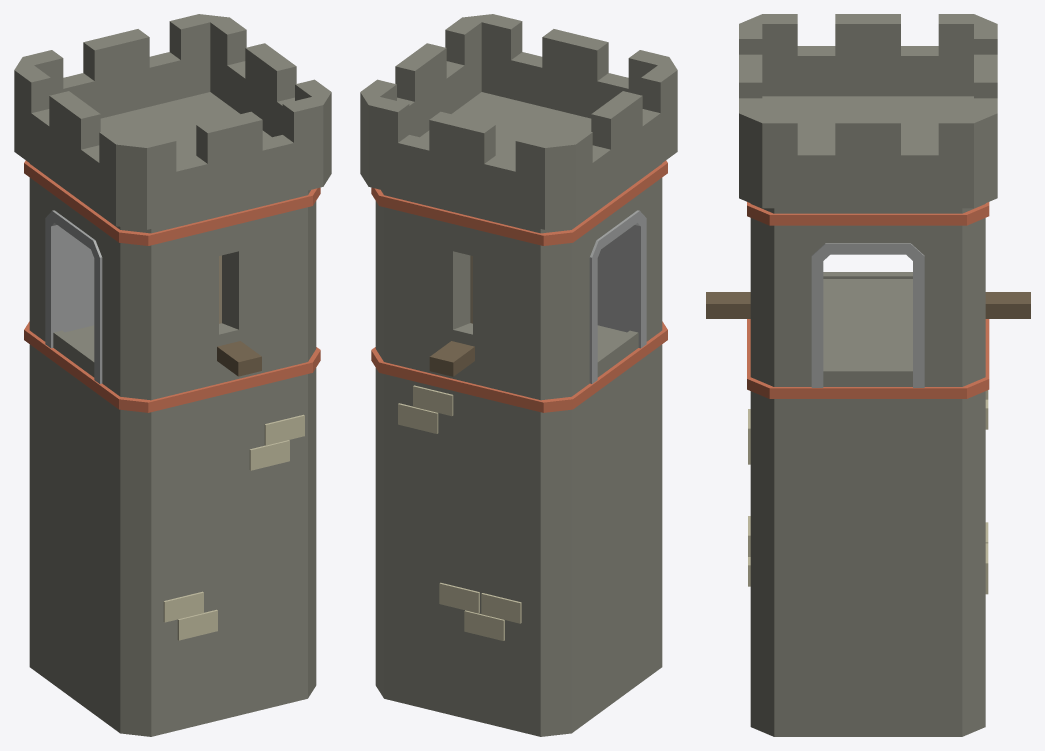
File: Tower_4.fbx
3 renders of one model, left to right at view 1: azimuth 30°, elevation 25°; view 2: azimuth 150°, elevation 25°; view 3: azimuth 270°, elevation 25°, orthographic. The views are drawn at different scales.
Visible parts, largest first — view 1: Tower_4; view 2: Tower_4; view 3: Tower_4.
Part boxes in pixels (x1,y1,x2,y2): Tower_4: [14, 14, 331, 736]; Tower_4: [360, 14, 677, 736]; Tower_4: [706, 14, 1030, 736].
Size of the model in its own units: 88 by 232 by 110.
Materials: 1 (1 with a texture image).
